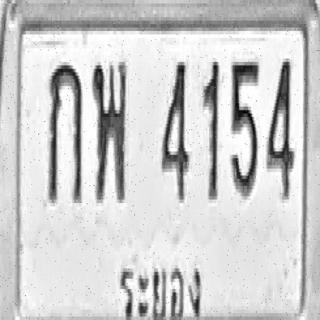A01: (48, 62, 82, 203)
A30: (92, 58, 126, 203)
N01: (202, 59, 220, 200)
N04: (160, 59, 190, 200), (266, 55, 293, 200)
N05: (230, 58, 260, 196)
P53: (114, 244, 205, 320)
